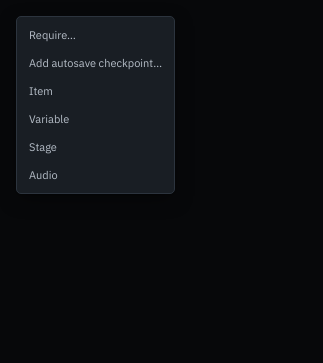
Test: InkContextMenu › filters, which is the only way through a hundred items
This screenshot has width=323, height=363.
Step 1. Click the menu item "Require…" → (96, 35), box [21,21,170,49]
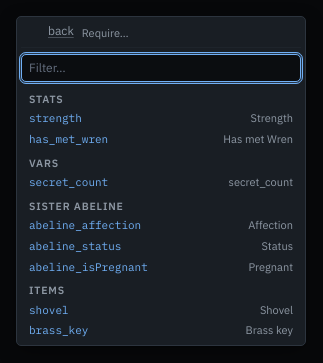
Step 2. Type "brass" into the field labelled "Filter" → (161, 68), box [21,54,301,82]
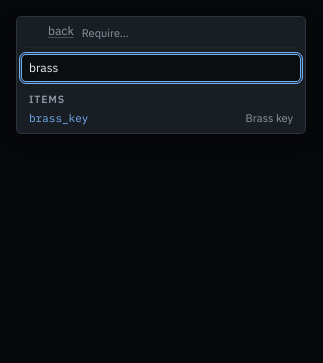
Result: the button "brass_key Brass key" is shown at [21,108,301,129]
Result: the button "shovel" is gone
